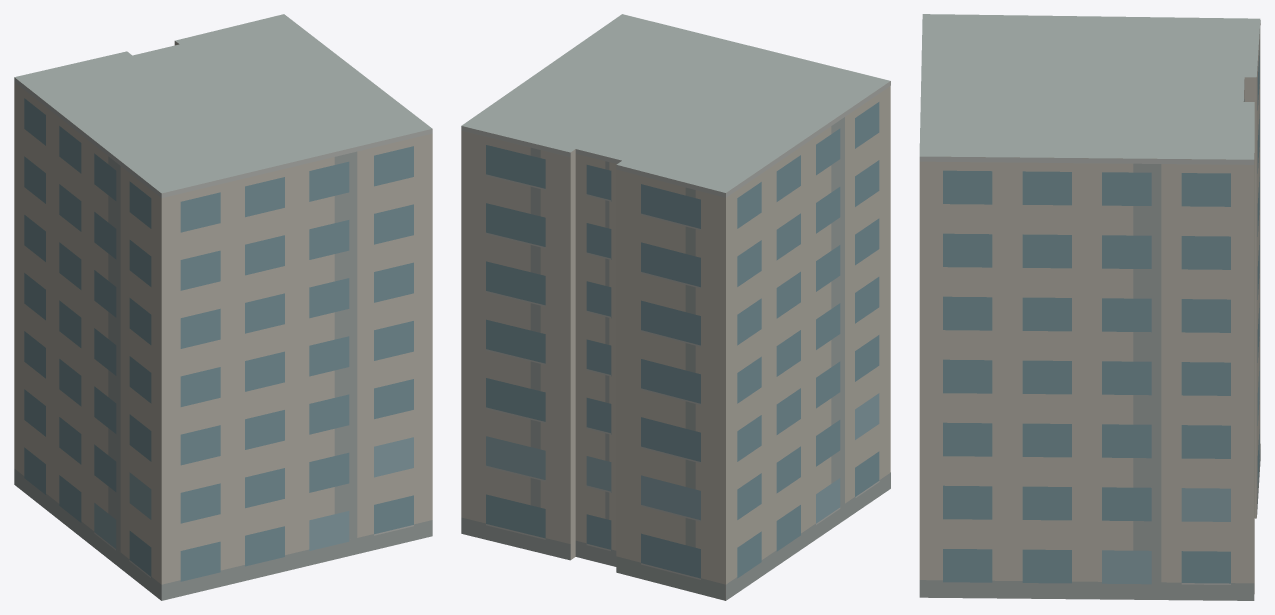
Rendered from survey-upis-33025311.glb.
3 renders of one model, left to right at view 1: azimuth 30°, elevation 25°; view 2: azimuth 150°, elevation 25°; view 3: azimuth 270°, elevation 25°, orthographic. The views are drawn at different scales.
Visible parts, largest first — view 1: survey-upis-33025311.tmp; view 2: survey-upis-33025311.tmp; view 3: survey-upis-33025311.tmp.
Part boxes in pixels (x1,y1,x2,y2): survey-upis-33025311.tmp: (14, 14, 432, 600); survey-upis-33025311.tmp: (461, 14, 890, 600); survey-upis-33025311.tmp: (919, 14, 1260, 600).
Bounding box in the file's own units: 14.75 × 20.8 × 14.58.
